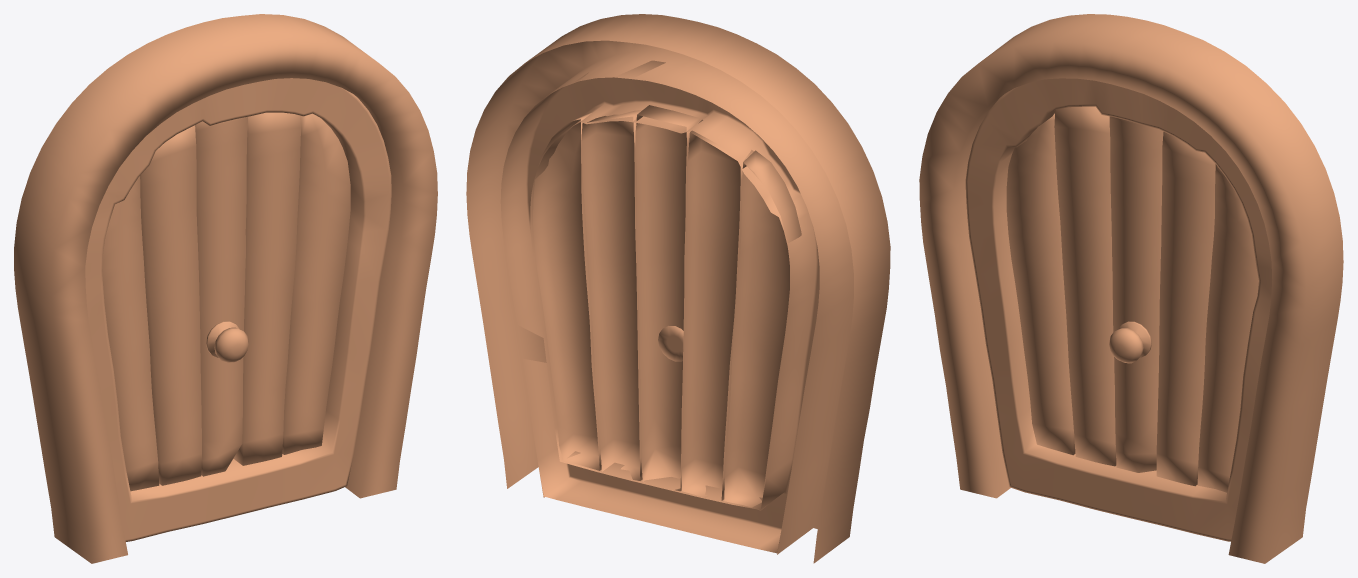
The model's file is Wood_Door_Low.fbx.
3 views of the same model, side by side, from view 1: azimuth 30°, elevation 25°; view 2: azimuth 150°, elevation 25°; view 3: azimuth 330°, elevation 25° (orthographic).
Visible parts, largest first — view 1: encadrement.006, encadrement, encadrement.002, encadrement.001, encadrement.004, encadrement.003, encadrement.005, Cylinder; view 2: encadrement.006, encadrement, encadrement.002, encadrement.001, encadrement.003, encadrement.005, encadrement.004, Cylinder; view 3: encadrement.006, encadrement, encadrement.002, encadrement.001, encadrement.003, encadrement.005, encadrement.004, Cylinder.
Boxes of the visible parts, x1,y1,x2,y2 form: encadrement.006: (14,14,437,563); encadrement: (85,78,391,541); encadrement.002: (140,125,201,485); encadrement.001: (233,112,300,465); encadrement.004: (282,113,350,454); encadrement.003: (195,117,247,476); encadrement.005: (102,176,159,491); Cylinder: (206,321,248,362); encadrement.006: (466,14,890,563); encadrement: (501,60,819,553); encadrement.002: (681,119,753,500); encadrement.001: (581,110,642,480); encadrement.003: (635,105,699,491); encadrement.005: (724,150,801,510); encadrement.004: (533,113,601,470); Cylinder: (658,326,683,361); encadrement.006: (919,14,1343,563); encadrement: (965,78,1271,541); encadrement.002: (1054,106,1116,466); encadrement.001: (1156,132,1215,486); encadrement.003: (1109,116,1163,472); encadrement.005: (1006,113,1075,455); encadrement.004: (1197,164,1258,492); Cylinder: (1109,321,1151,363).
Size of the model in its own units: 91.46 by 108 by 15.02.
